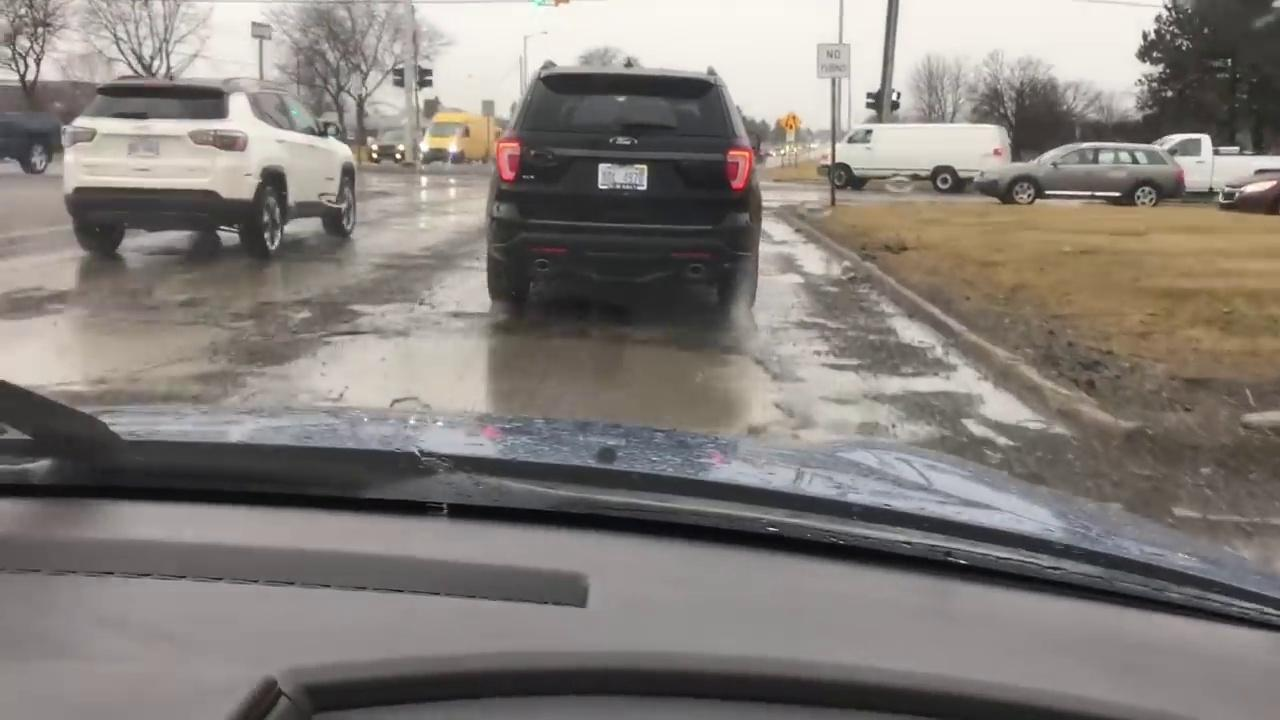pothole: (314, 329, 786, 437), (880, 306, 1064, 433)
